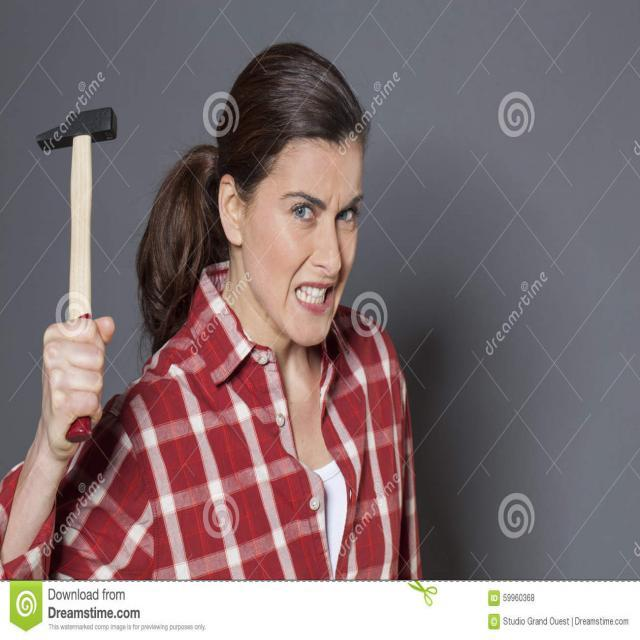hammer: (34, 98, 122, 442)
